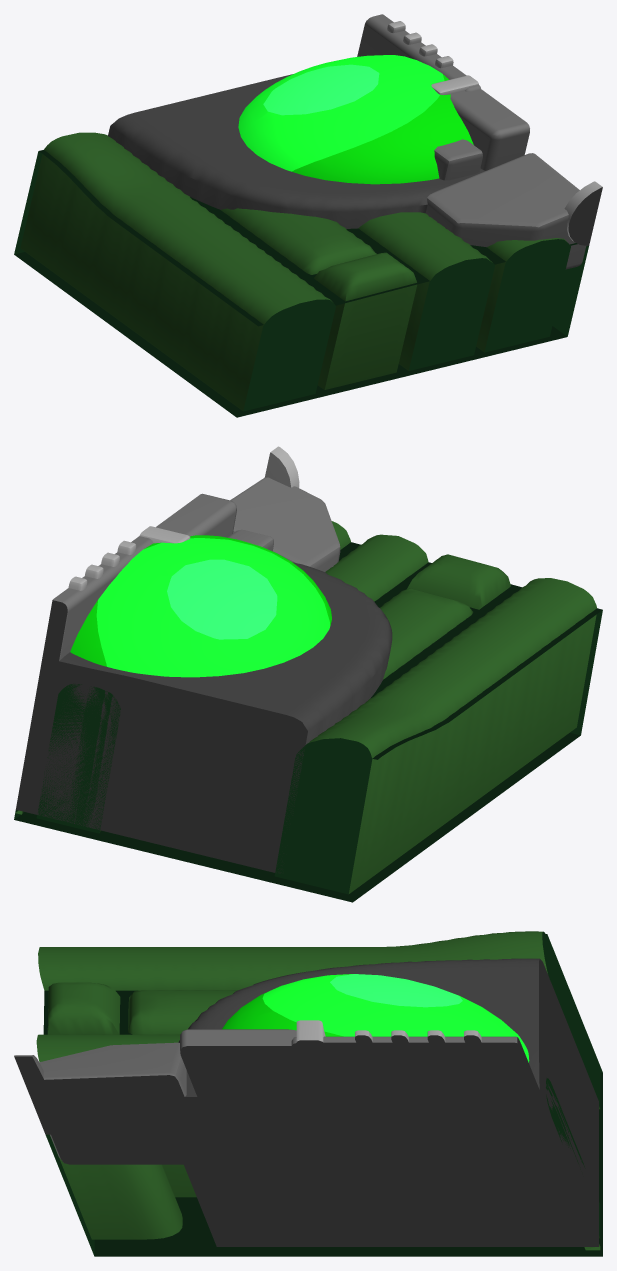
File: green_shell_275.glb
The picture shows the model from 3 angles, top to bottom: view 1: azimuth 30°, elevation 25°; view 2: azimuth 150°, elevation 25°; view 3: azimuth 270°, elevation 25°; orthographic projection. The views are drawn at different scales.
Parts seen in each view (by area): view 1: green_shell_275; view 2: green_shell_275; view 3: green_shell_275.
Boxes of the visible parts, x1,y1,x2,y2 form: green_shell_275: [14, 14, 602, 417]; green_shell_275: [14, 446, 602, 902]; green_shell_275: [14, 931, 602, 1256].
Size of the model in its own units: 24 by 13.45 by 32.43.
